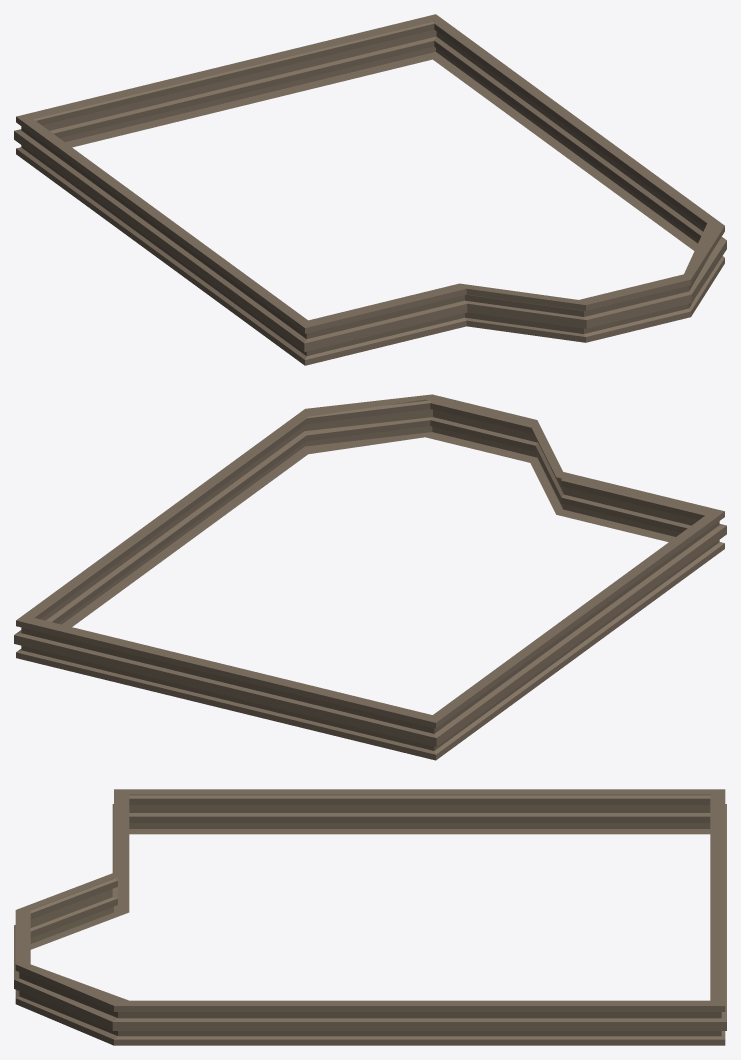
File: SM_Bldg_City_Apartment_T2_Cornice_02.fbx
The picture shows the model from 3 angles, top to bottom: view 1: azimuth 30°, elevation 25°; view 2: azimuth 150°, elevation 25°; view 3: azimuth 270°, elevation 25°; orthographic projection. The views are drawn at different scales.
Parts seen in each view (by area): view 1: SM_Bldg_City_Apartment_T2_Cornice_02; view 2: SM_Bldg_City_Apartment_T2_Cornice_02; view 3: SM_Bldg_City_Apartment_T2_Cornice_02.
Boxes of the visible parts, left/top/right/bottom form: SM_Bldg_City_Apartment_T2_Cornice_02: left=14, top=14, right=726, bottom=365; SM_Bldg_City_Apartment_T2_Cornice_02: left=14, top=394, right=726, bottom=760; SM_Bldg_City_Apartment_T2_Cornice_02: left=14, top=789, right=726, bottom=1045.
Size of the model in its own units: 523 by 44.56 by 723.
